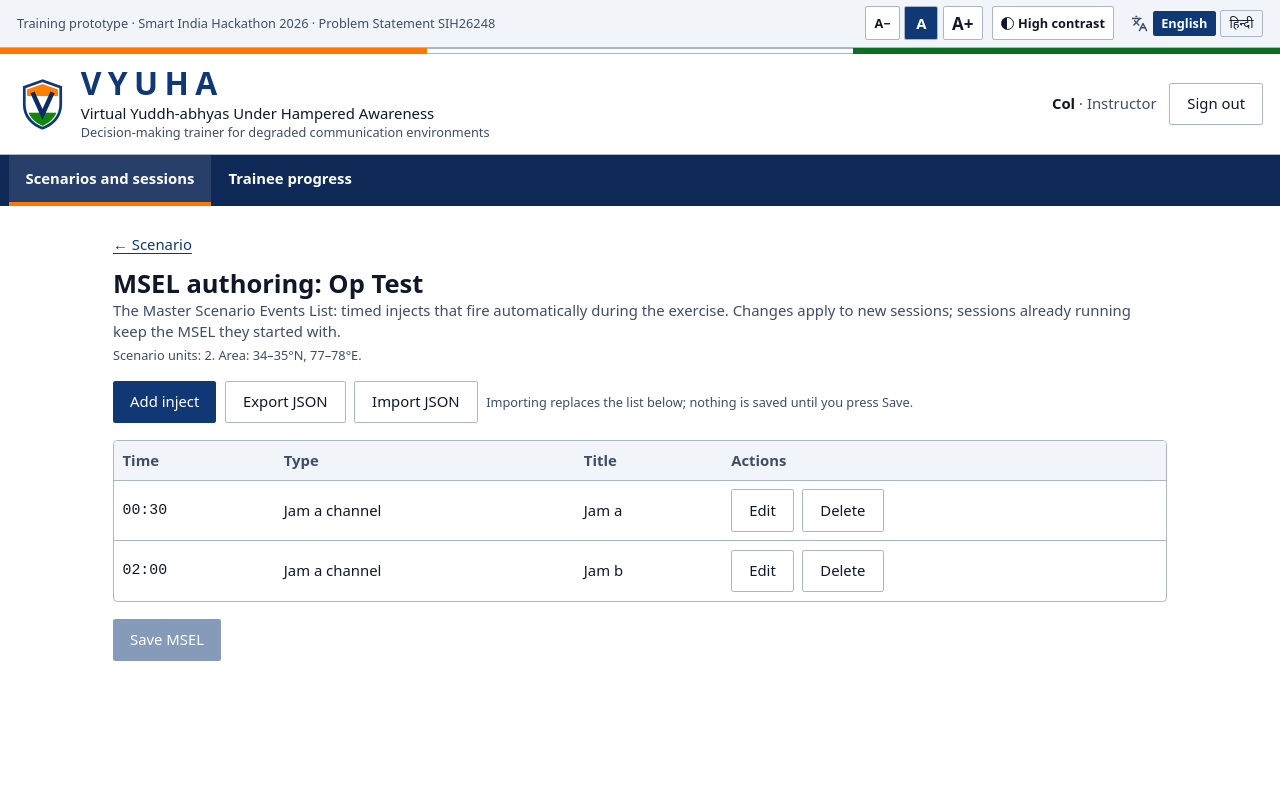
MselAuthoringPage › shows the server message when saving fails
This screenshot has width=1280, height=800.
Check: the text "Jam a" is shown, box [575,480,723,541]
Click the button with aria-label "Delete: Jam b". click: (843, 571)
box: [802,550,884,592]
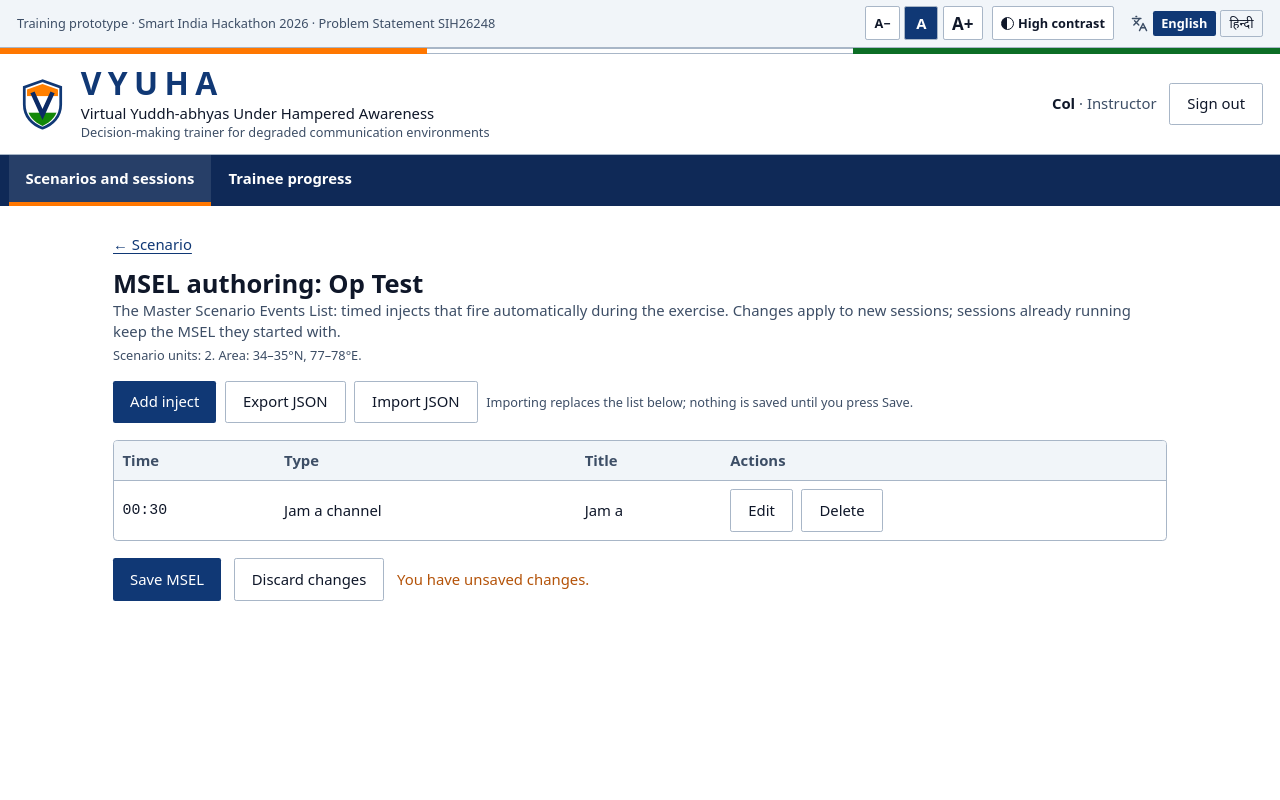
Click the button "Save MSEL". click: (167, 579)
box: [113,558,221,601]
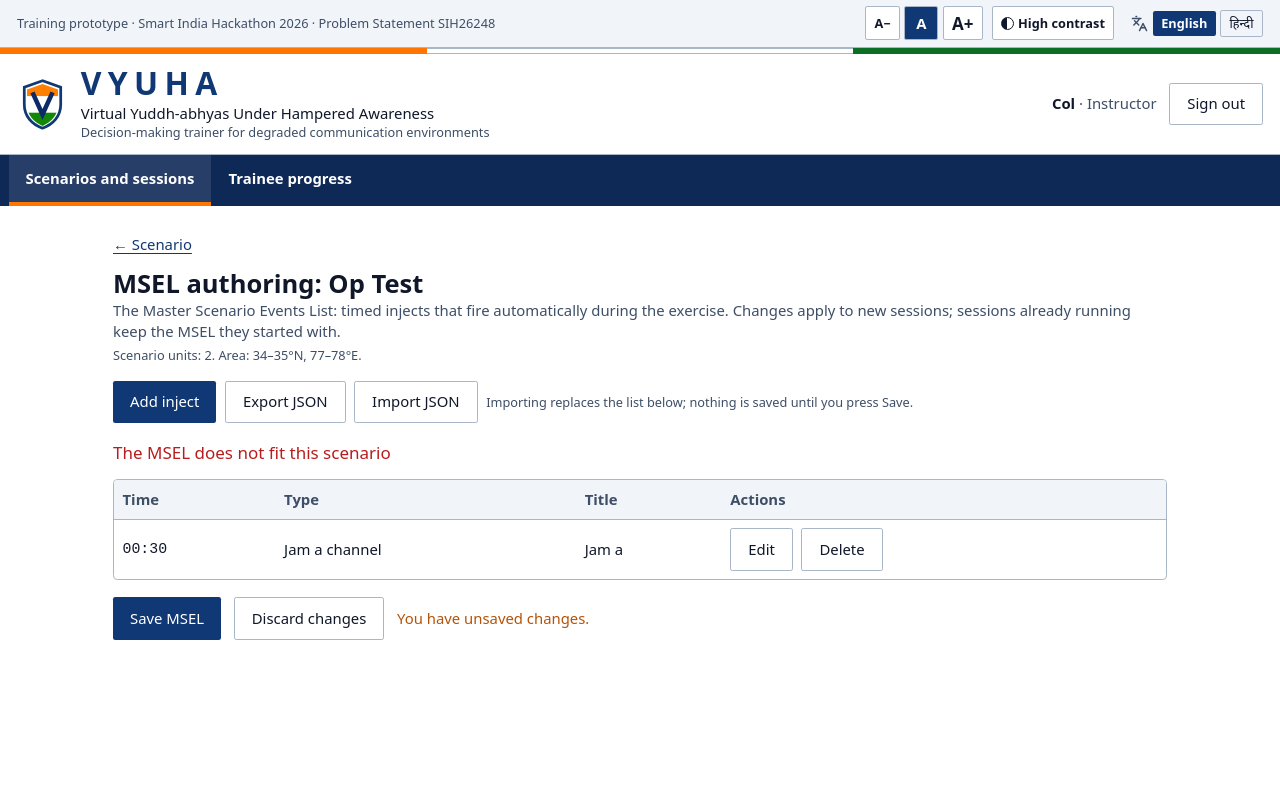
Check: the text "The MSEL does not fit this scenario" is shown, box [113,441,391,464]
